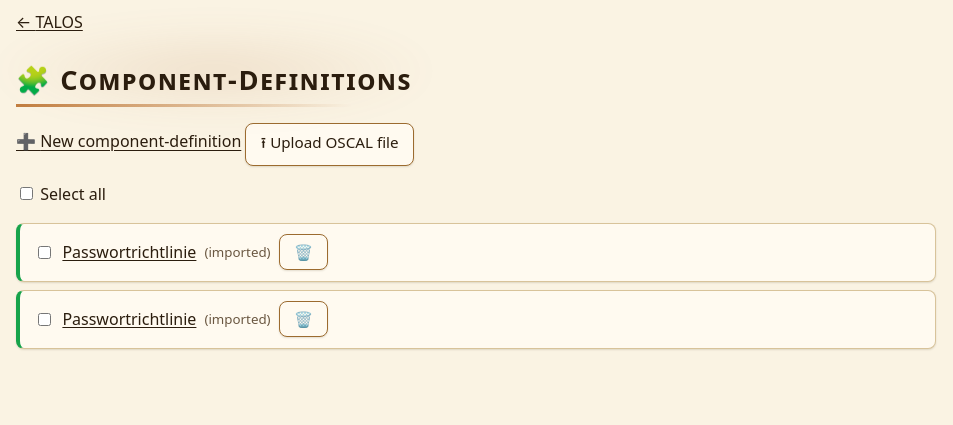
Scenario: bulk selection (ADR-0027) › select-all selects every item, then toggling it again clears the selection
Click the checkbox with test id "compdef-select-all" at (26, 193), box [20, 187, 33, 200]
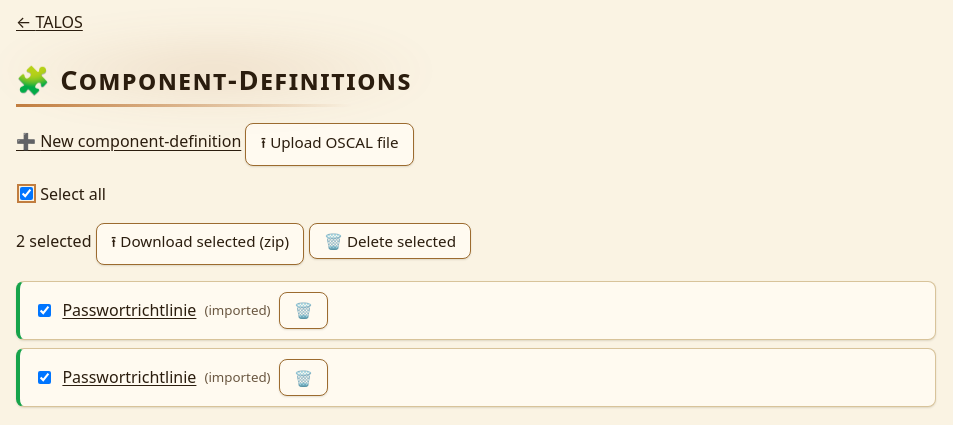
Check: the text with test id "compdef-selected-count" shows "2", box [16, 230, 92, 252]
Click the checkbox with test id "compdef-select-all" at (26, 193), box [20, 187, 33, 200]
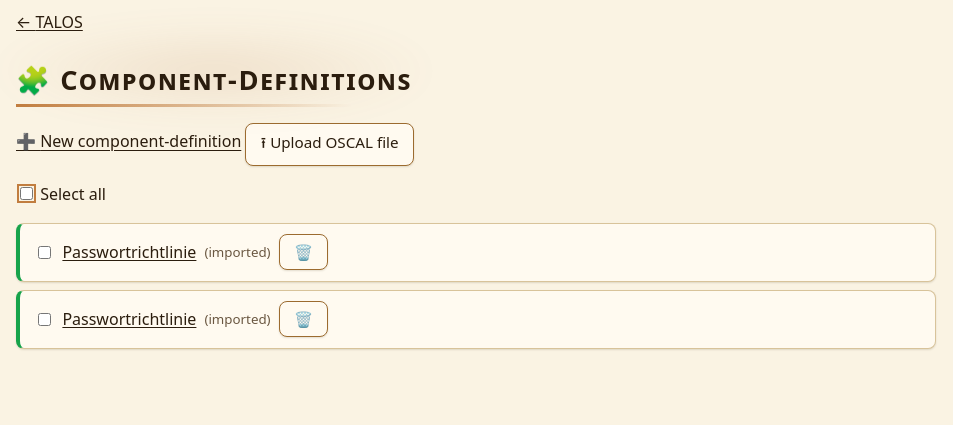
Check: the element with test id "compdef-bulk-actions" is gone
